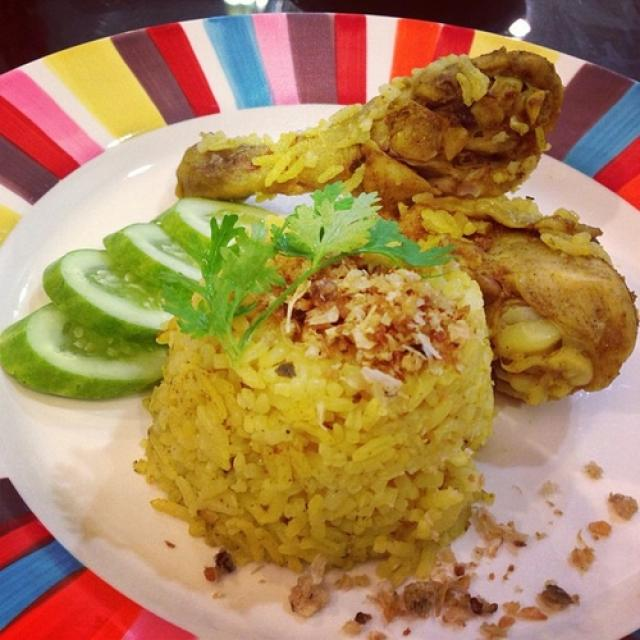米饭主食: (26, 47, 626, 608)
